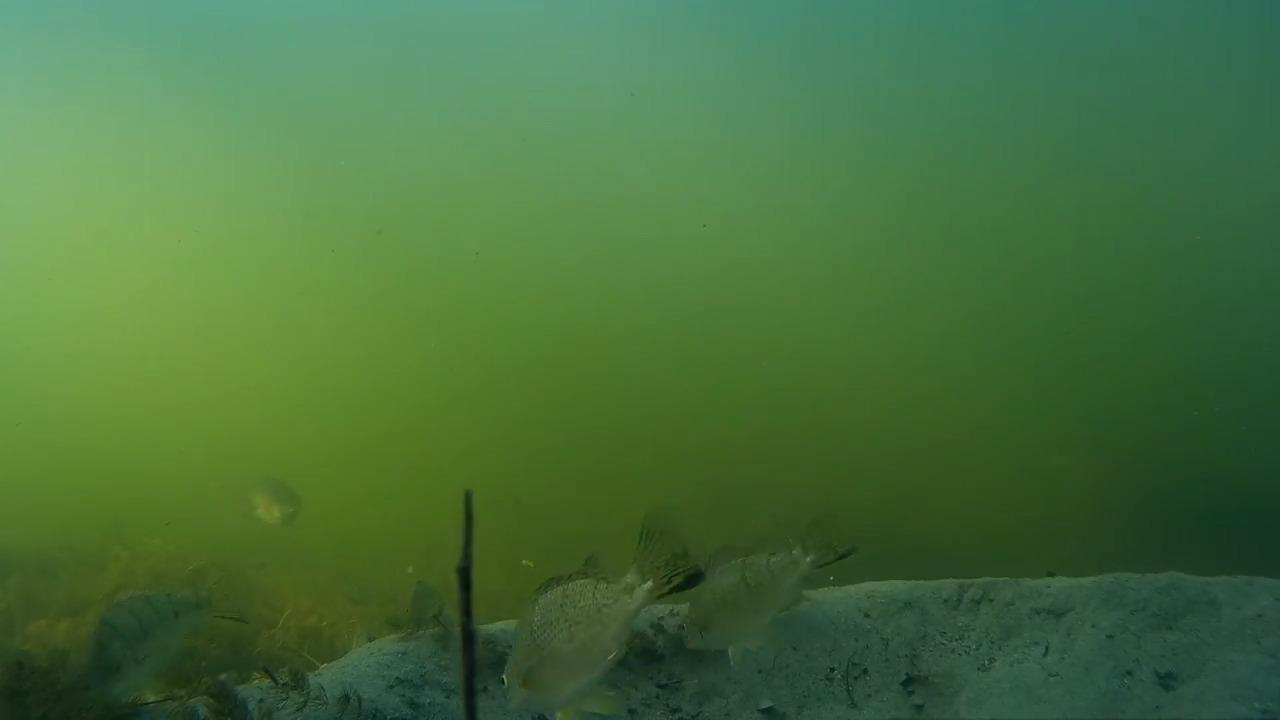Tilapia: (481, 523, 723, 714), (676, 512, 865, 682), (223, 477, 316, 533)
